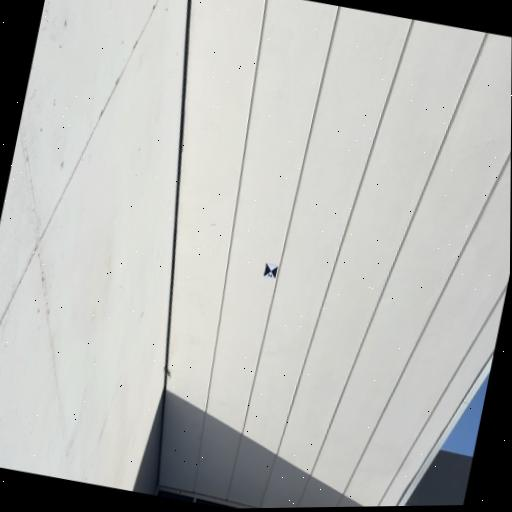target7: (264, 262, 278, 281)
